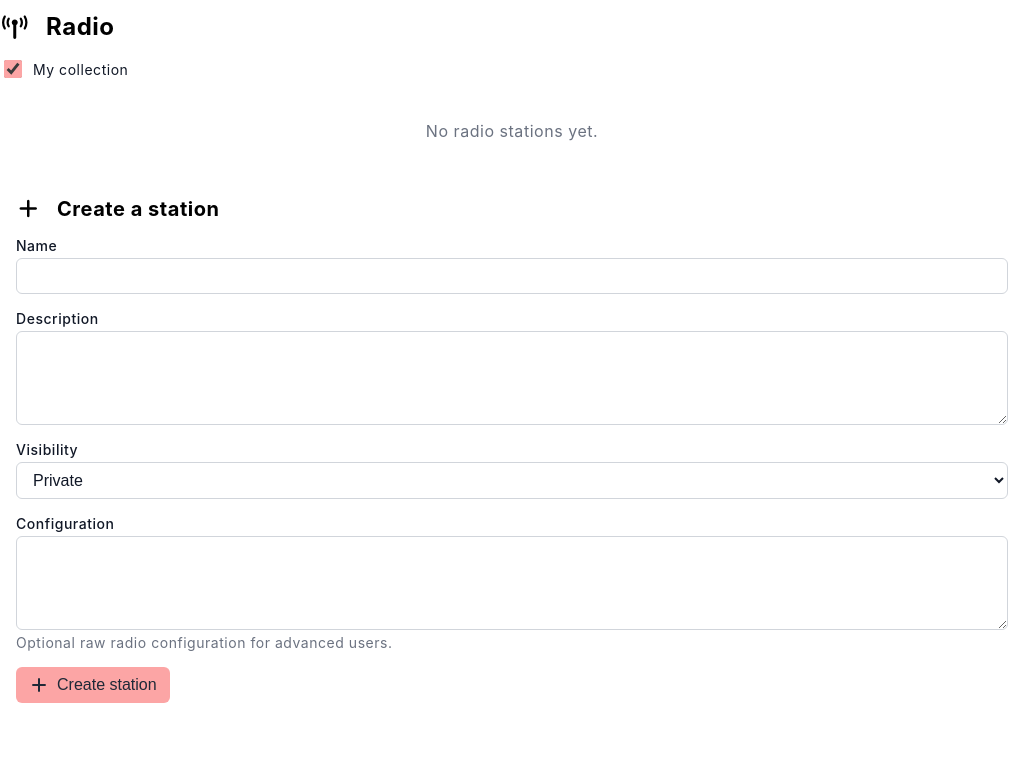
Test: RadioView › creates a station
Step 1. Type "New Station" into the field labelled "Name" → [512, 276], box [16,258,1008,294]
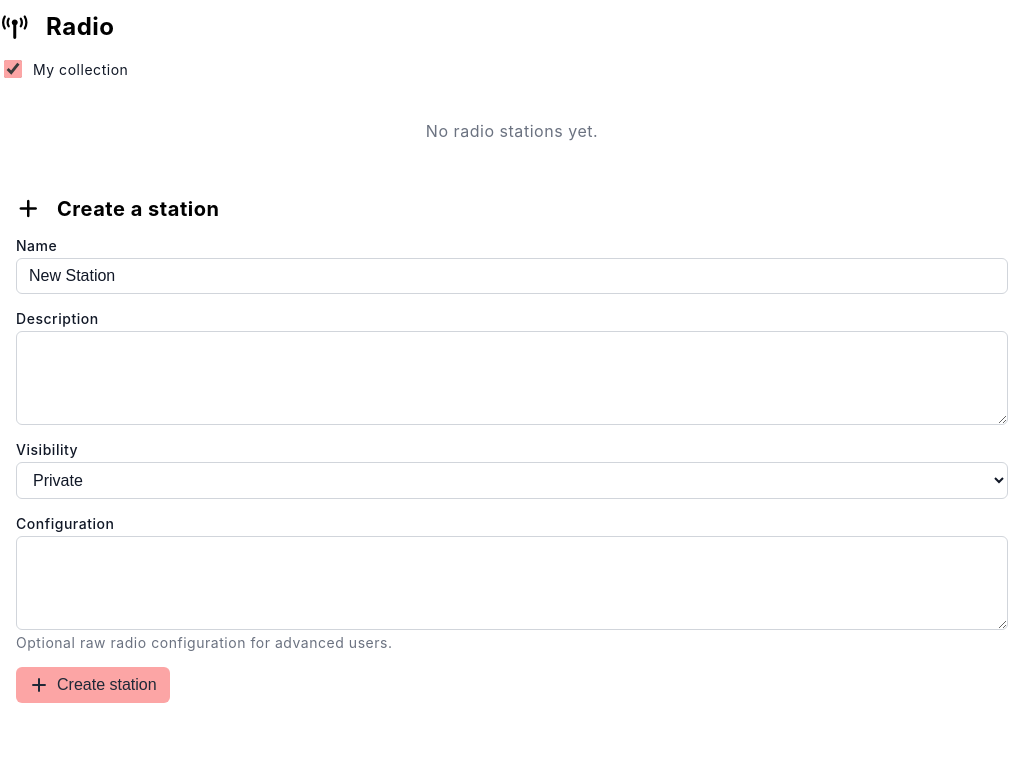
Step 2. Type "A station" into the text box labelled "Description" → [512, 378], box [16,331,1008,425]
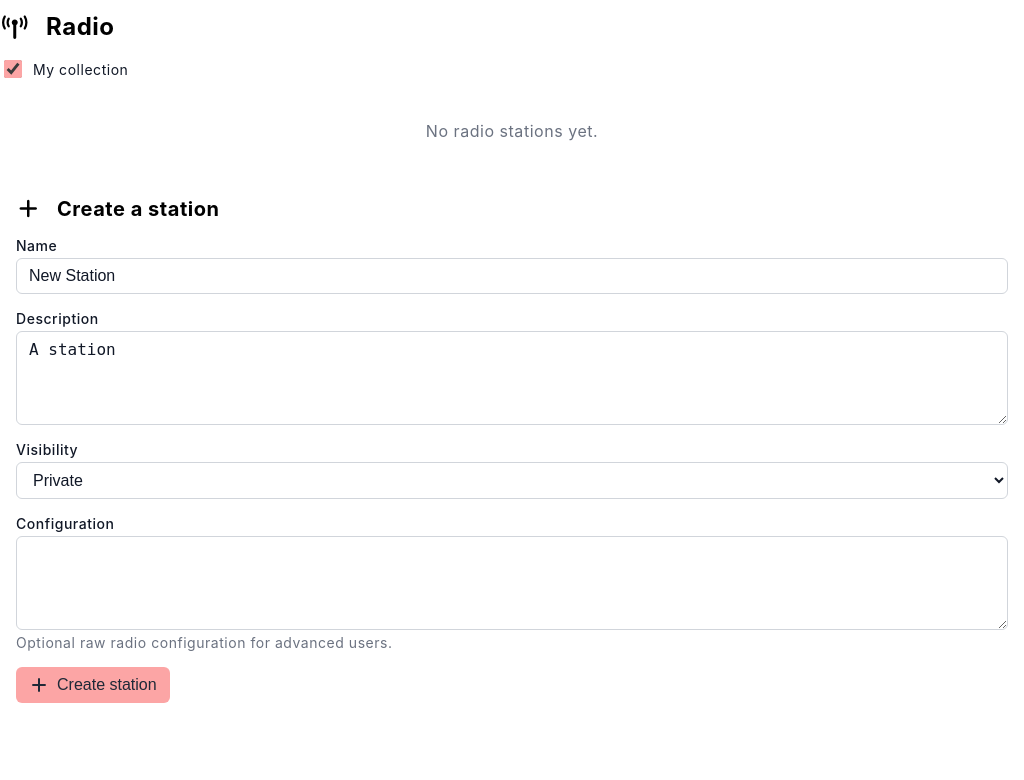
Step 3. Type "config" into the text box labelled "Configuration" → [512, 583], box [16,536,1008,630]
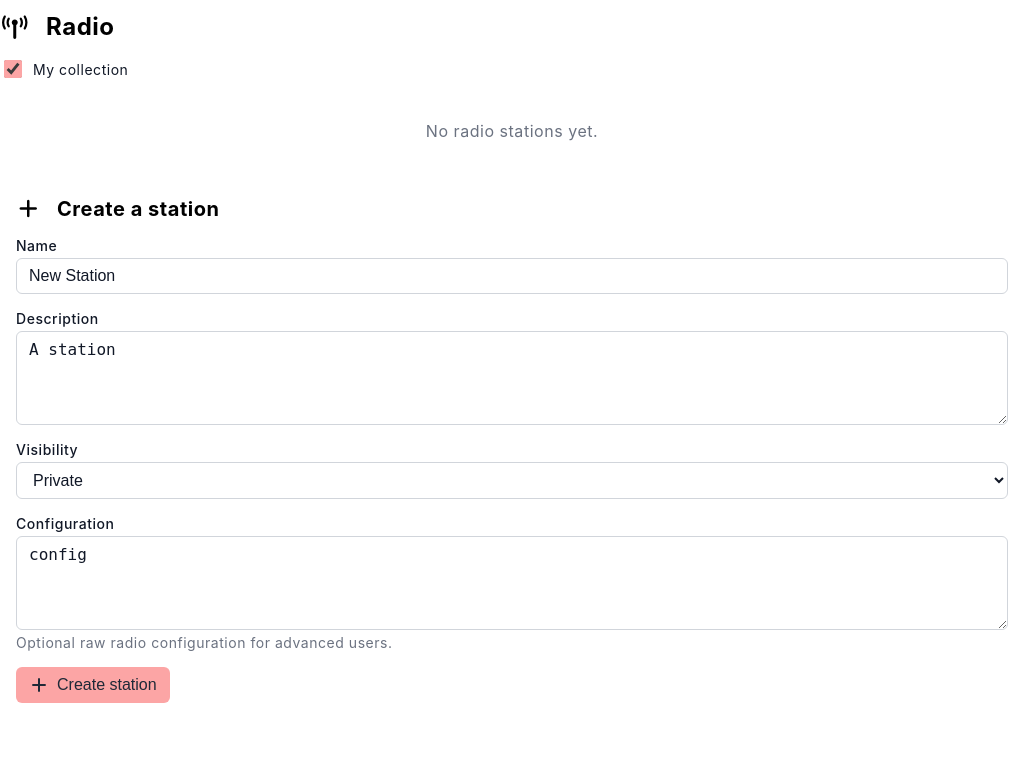
Step 4. Select "Public" in the dropdown labelled "Visibility" → [512, 480], box [16,462,1008,499]
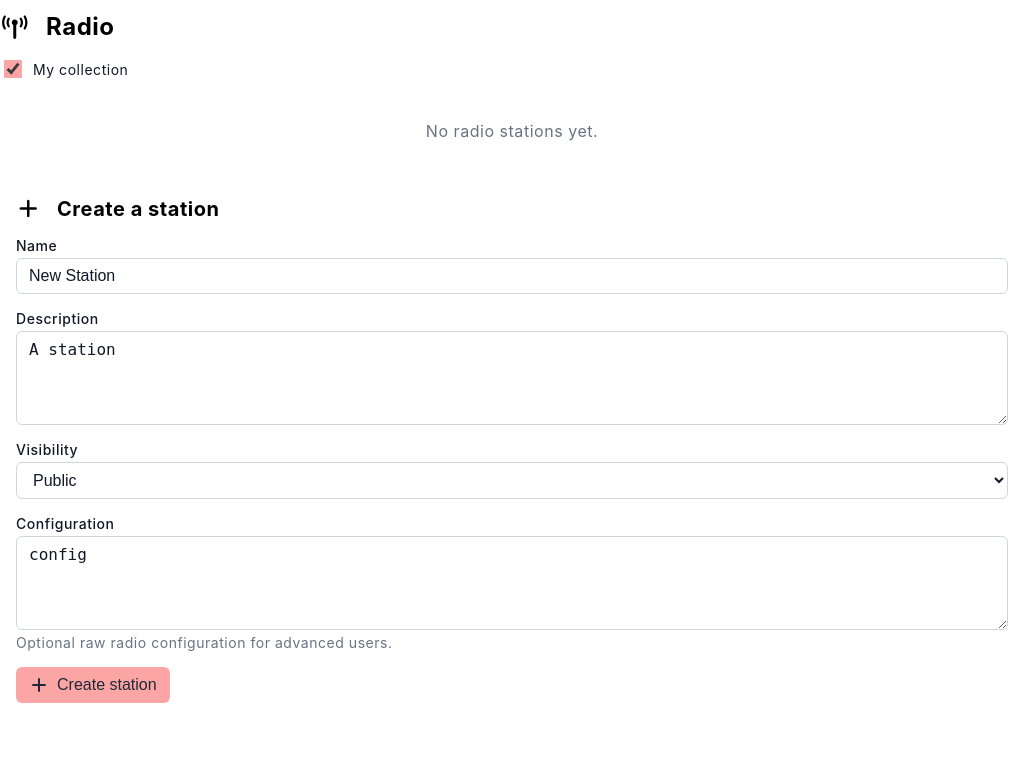
Step 5. Click the button "Create station" → [93, 685], box [16,667,170,703]
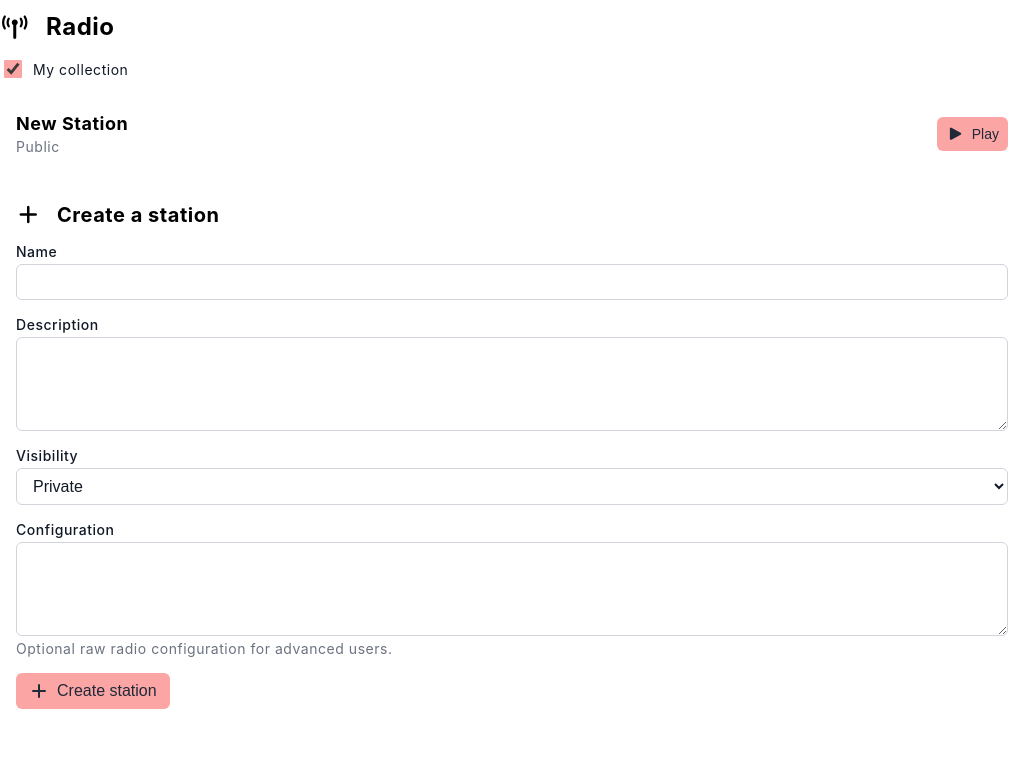
Expected: the text "New Station" is shown, [16,113,128,134]
